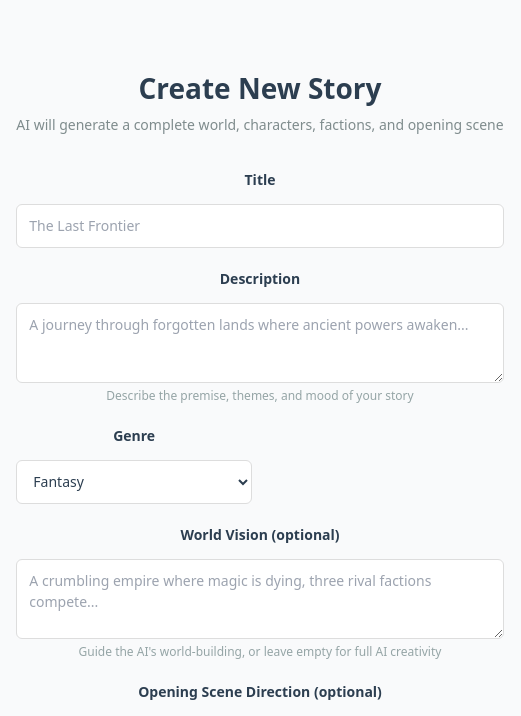
Test: CreateStoryPage › enables submit when title and description are filled
Step 1. Type "My Story" into the field labelled "Title" → (260,226), box [16,204,504,248]
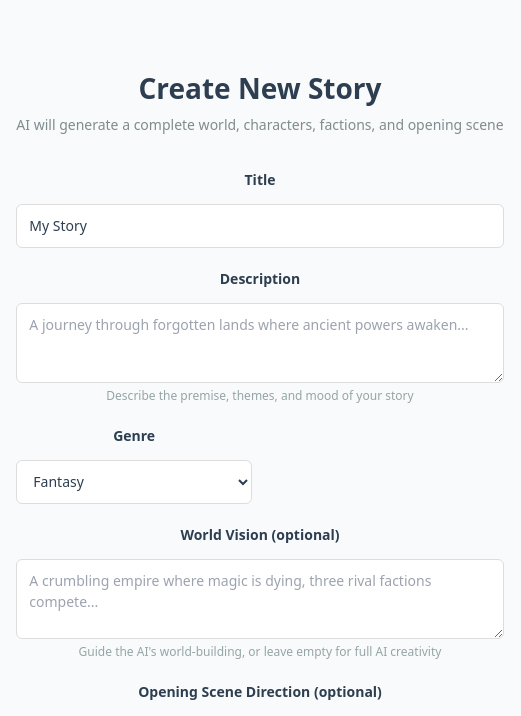
Step 2. Replace the text in the text box labelled "Description" with "A great adventure" → (260,343), box [16,303,504,383]
(page scrolled)
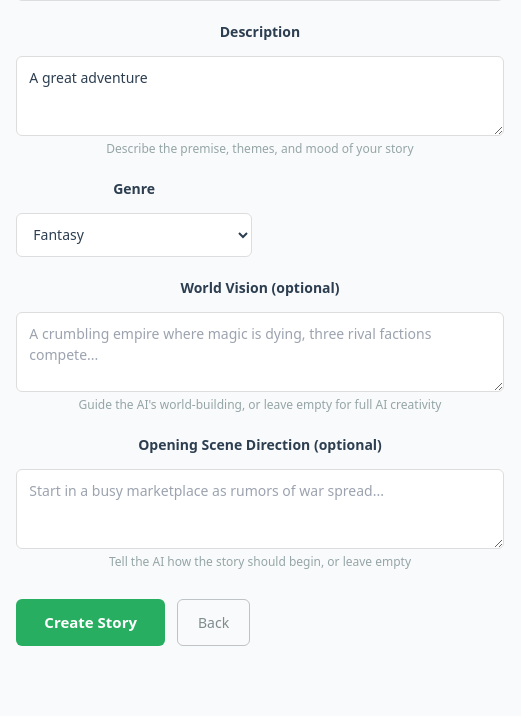
Check: the button "Create Story" is enabled, box [16,599,165,646]
